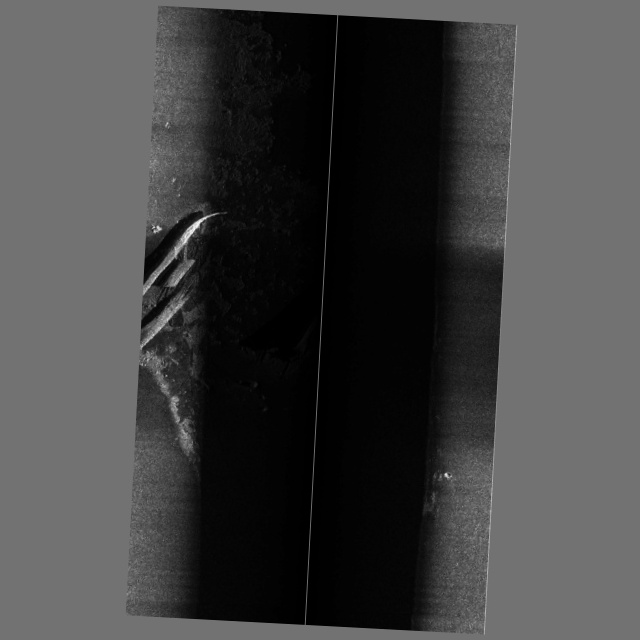Shipwreck: (139, 207, 228, 355)
